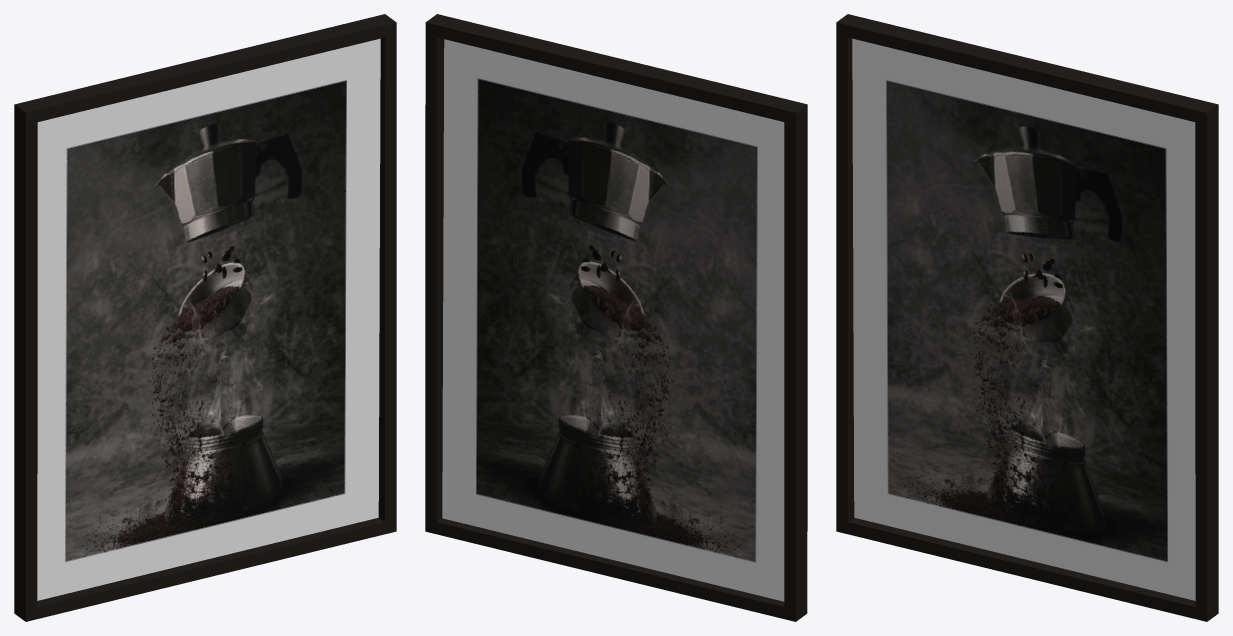
The model's file is fallande_kaffe_30x40_WEBB.glb.
The picture shows the model from 3 angles, left to right: view 1: azimuth 30°, elevation 25°; view 2: azimuth 150°, elevation 25°; view 3: azimuth 330°, elevation 25°; orthographic projection.
Visible parts, largest first — view 1: P655208_vintervass_30x40_WEBB, Frame2; view 2: P655208_vintervass_30x40_WEBB, Frame2; view 3: P655208_vintervass_30x40_WEBB, Frame2.
Boxes of the visible parts, bbox=[...] form: P655208_vintervass_30x40_WEBB: bbox=[37, 38, 380, 600]; Frame2: bbox=[14, 14, 396, 621]; P655208_vintervass_30x40_WEBB: bbox=[442, 39, 784, 601]; Frame2: bbox=[425, 14, 807, 621]; P655208_vintervass_30x40_WEBB: bbox=[852, 38, 1195, 600]; Frame2: bbox=[836, 14, 1218, 621].
Size of the model in its own units: 0.2576 by 0.3381 by 0.0143.
2 materials, 2 textured.
